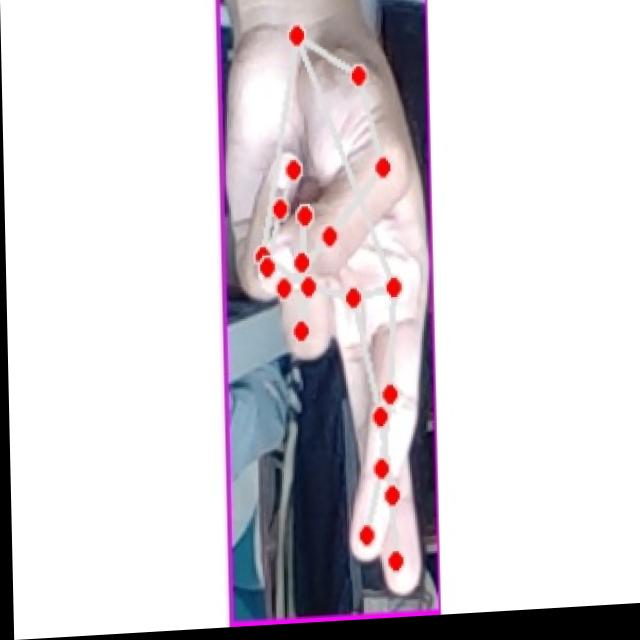R: (227, 12, 429, 617)
